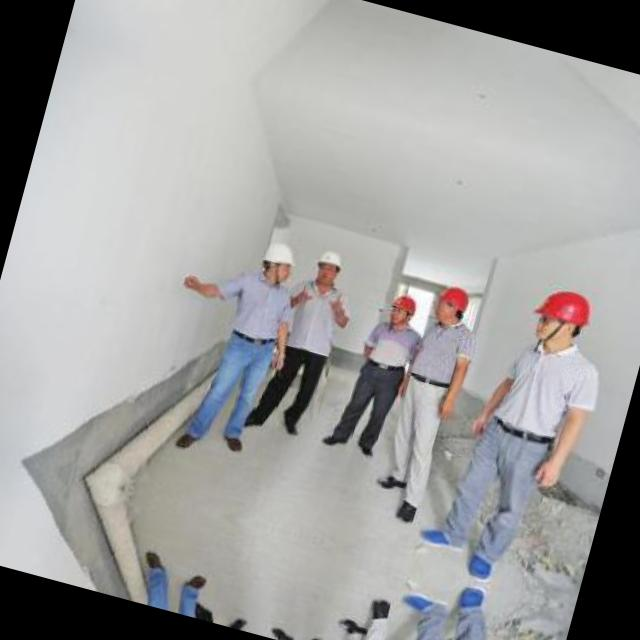helmet: (524, 274, 600, 358), (256, 232, 302, 286), (427, 277, 471, 327), (307, 242, 346, 290), (382, 290, 420, 330)
